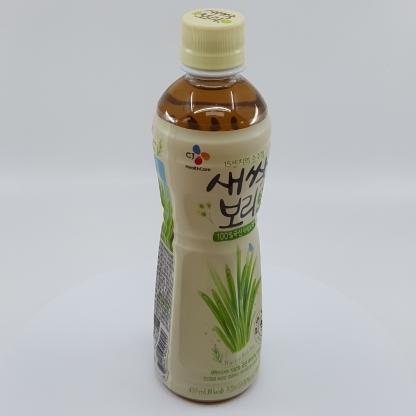CJ-----410ML: (151, 8, 272, 402)
